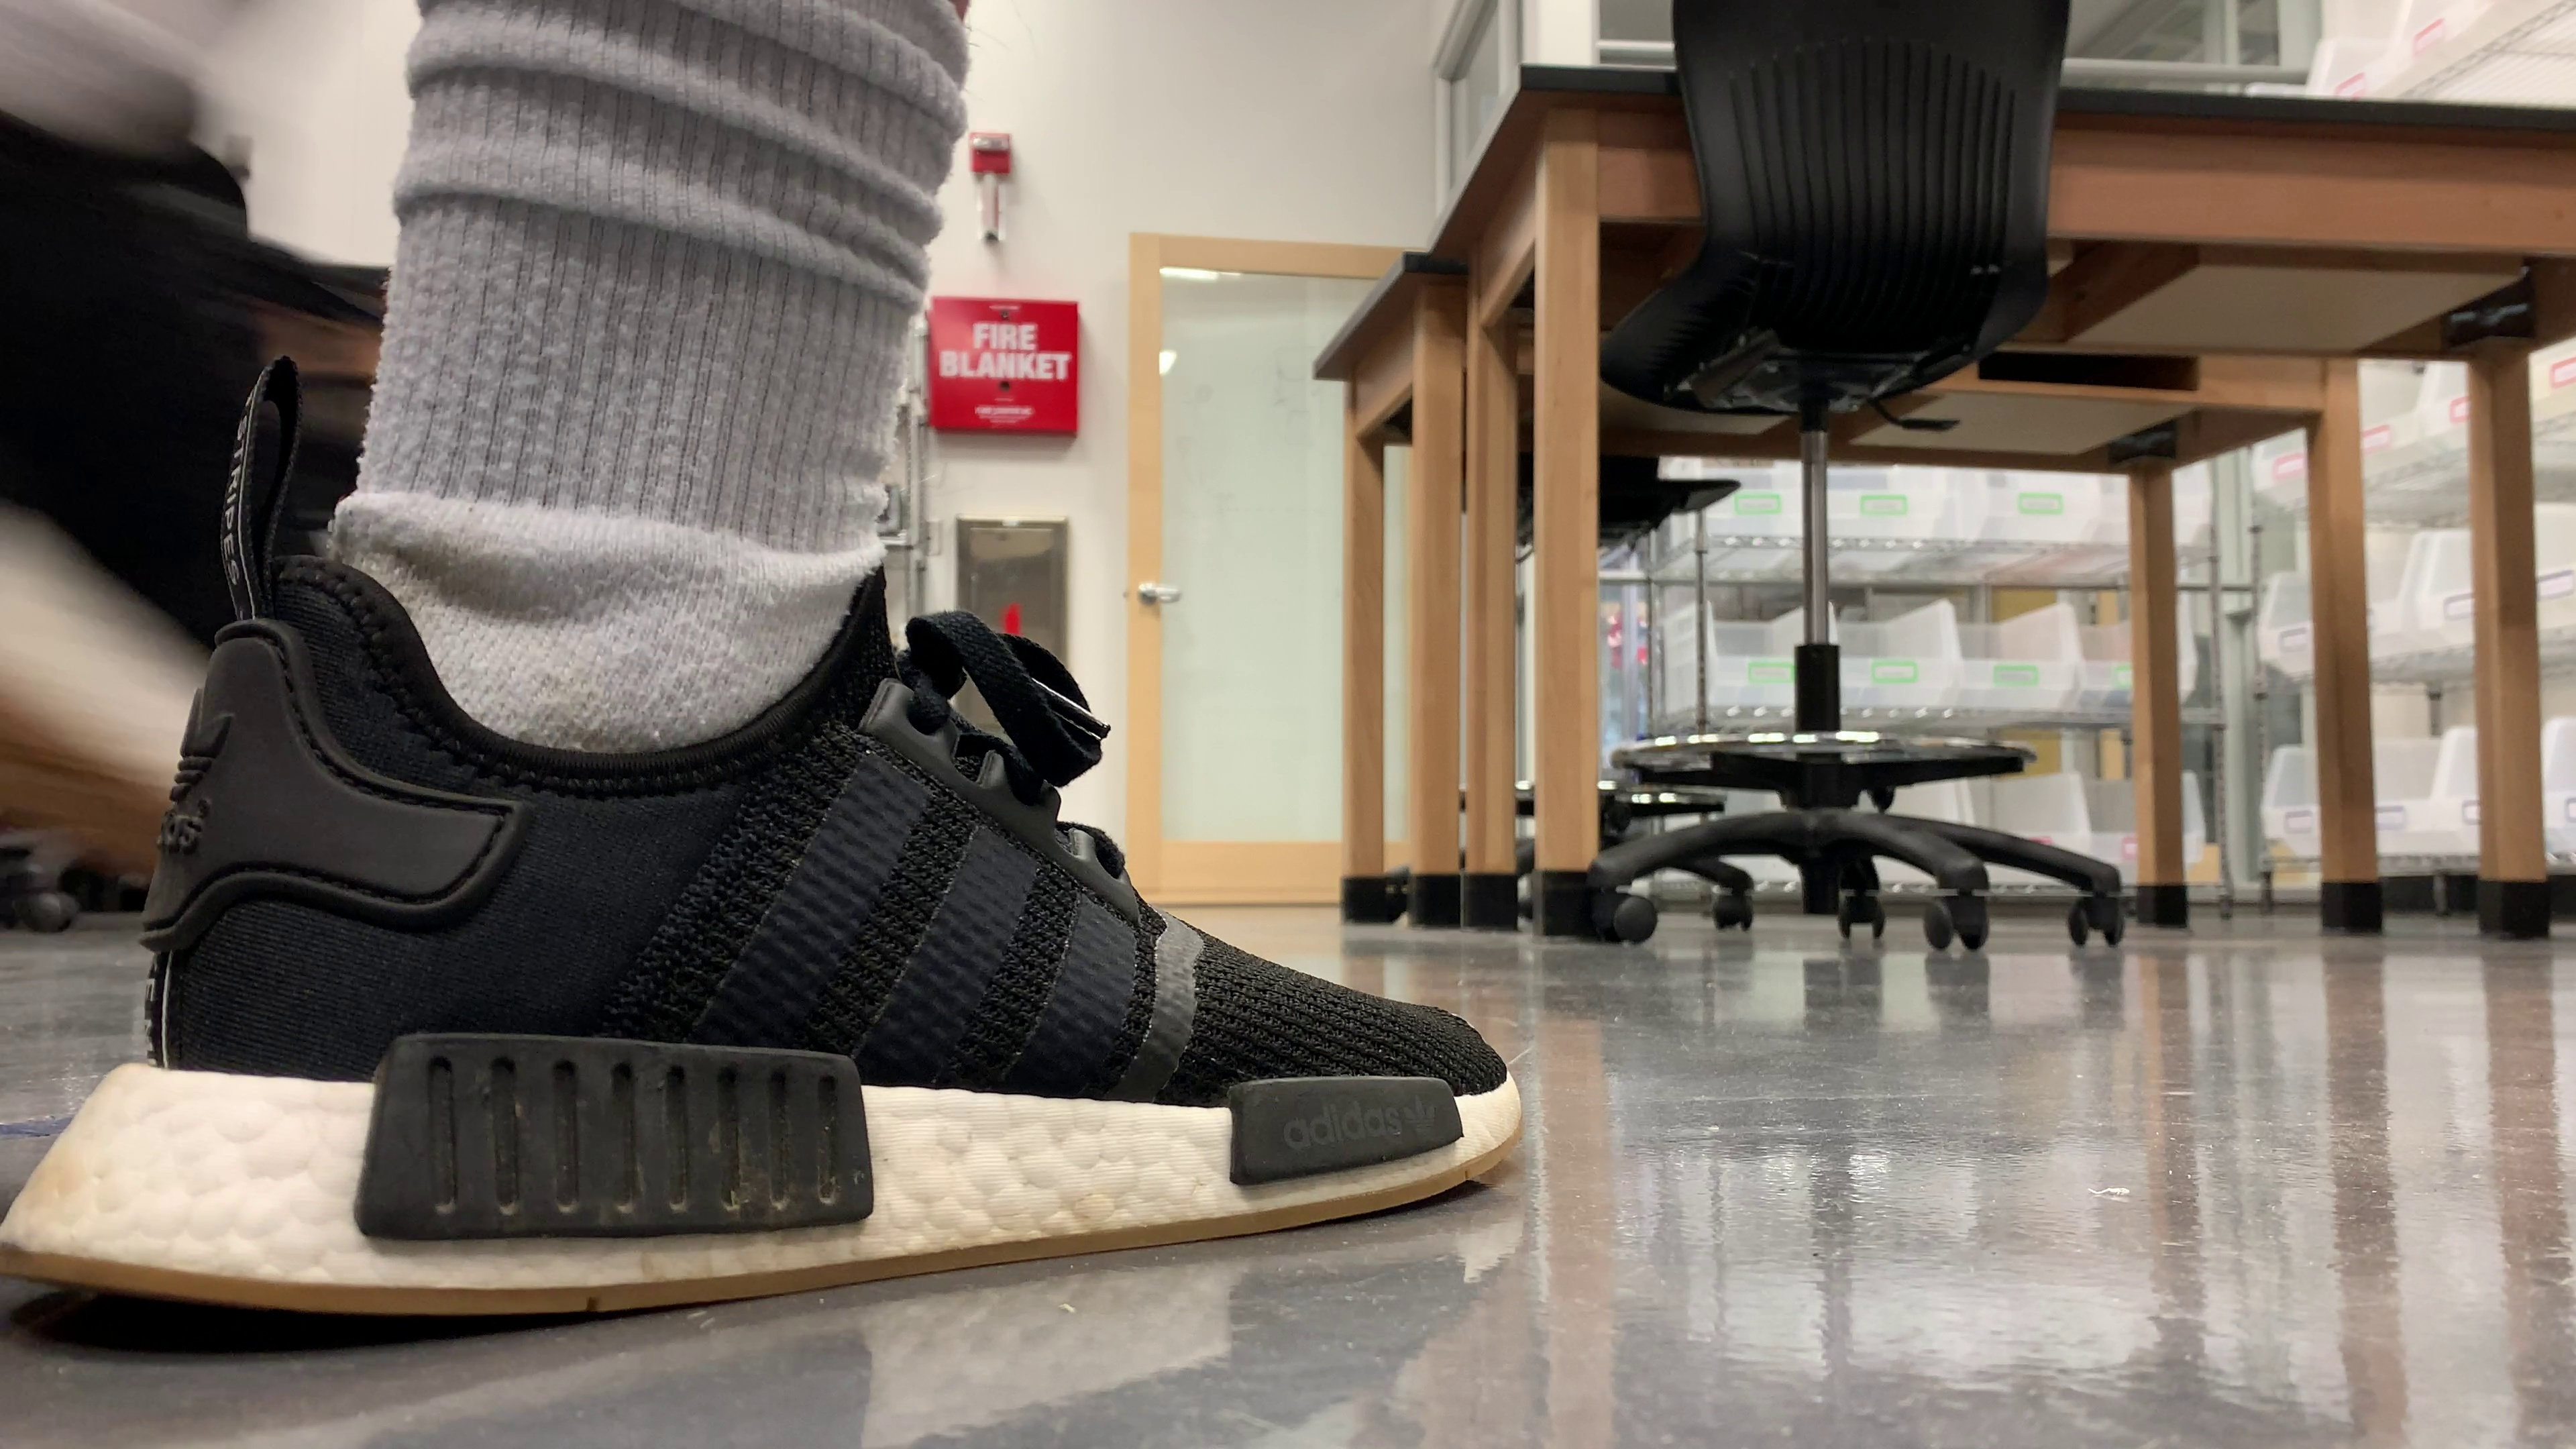shoe: (0, 552, 1522, 1313)
